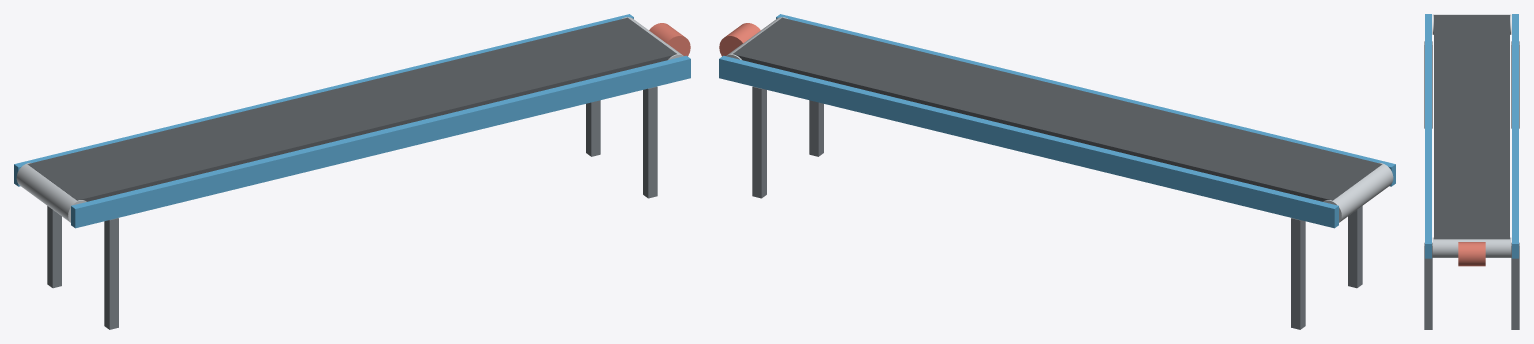
File: banda_transportadora.glb
3 views of the same model, side by side, from view 1: azimuth 30°, elevation 25°; view 2: azimuth 150°, elevation 25°; view 3: azimuth 270°, elevation 25° (orthographic). The views are drawn at different scales.
Parts seen in each view (by area): view 1: banda, riel_der, riel_izq, pata_4, pata_2, rodillo_inicio, pata_1, pata_3, motor; view 2: banda, riel_izq, riel_der, pata_3, pata_1, rodillo_inicio, pata_2, pata_4, motor; view 3: banda, riel_izq, riel_der, rodillo_fin, motor, pata_3, pata_4, pata_1, pata_2, rodillo_inicio.
Boxes of the visible parts, left/top/right/bottom form: banda: left=27, top=17, right=676, bottom=201; riel_der: left=71, top=55, right=690, bottom=228; riel_izq: left=14, top=14, right=633, bottom=186; pata_4: left=643, top=86, right=657, bottom=198; pata_2: left=104, top=218, right=118, bottom=329; rodillo_inicio: left=16, top=162, right=86, bottom=222; pata_1: left=47, top=206, right=61, bottom=288; pata_3: left=586, top=100, right=600, bottom=156; motor: left=649, top=23, right=690, bottom=56; banda: left=733, top=17, right=1382, bottom=201; riel_izq: left=719, top=55, right=1338, bottom=228; riel_der: left=776, top=14, right=1395, bottom=186; pata_3: left=752, top=86, right=766, bottom=198; pata_1: left=1291, top=218, right=1305, bottom=329; rodillo_inicio: left=1323, top=162, right=1393, bottom=222; pata_2: left=1348, top=206, right=1362, bottom=288; pata_4: left=809, top=100, right=823, bottom=156; motor: left=719, top=23, right=760, bottom=56; banda: left=1434, top=15, right=1509, bottom=239; riel_izq: left=1512, top=14, right=1518, bottom=258; riel_der: left=1425, top=14, right=1431, bottom=258; rodillo_fin: left=1432, top=237, right=1511, bottom=257; motor: left=1458, top=242, right=1485, bottom=266; pata_3: left=1511, top=242, right=1519, bottom=329; pata_4: left=1424, top=242, right=1432, bottom=329; pata_1: left=1511, top=41, right=1519, bottom=128; pata_2: left=1424, top=41, right=1432, bottom=128; rodillo_inicio: left=1432, top=14, right=1511, bottom=34.
Bounding box in the file's own units: 4.16 × 0.83 × 0.7.
